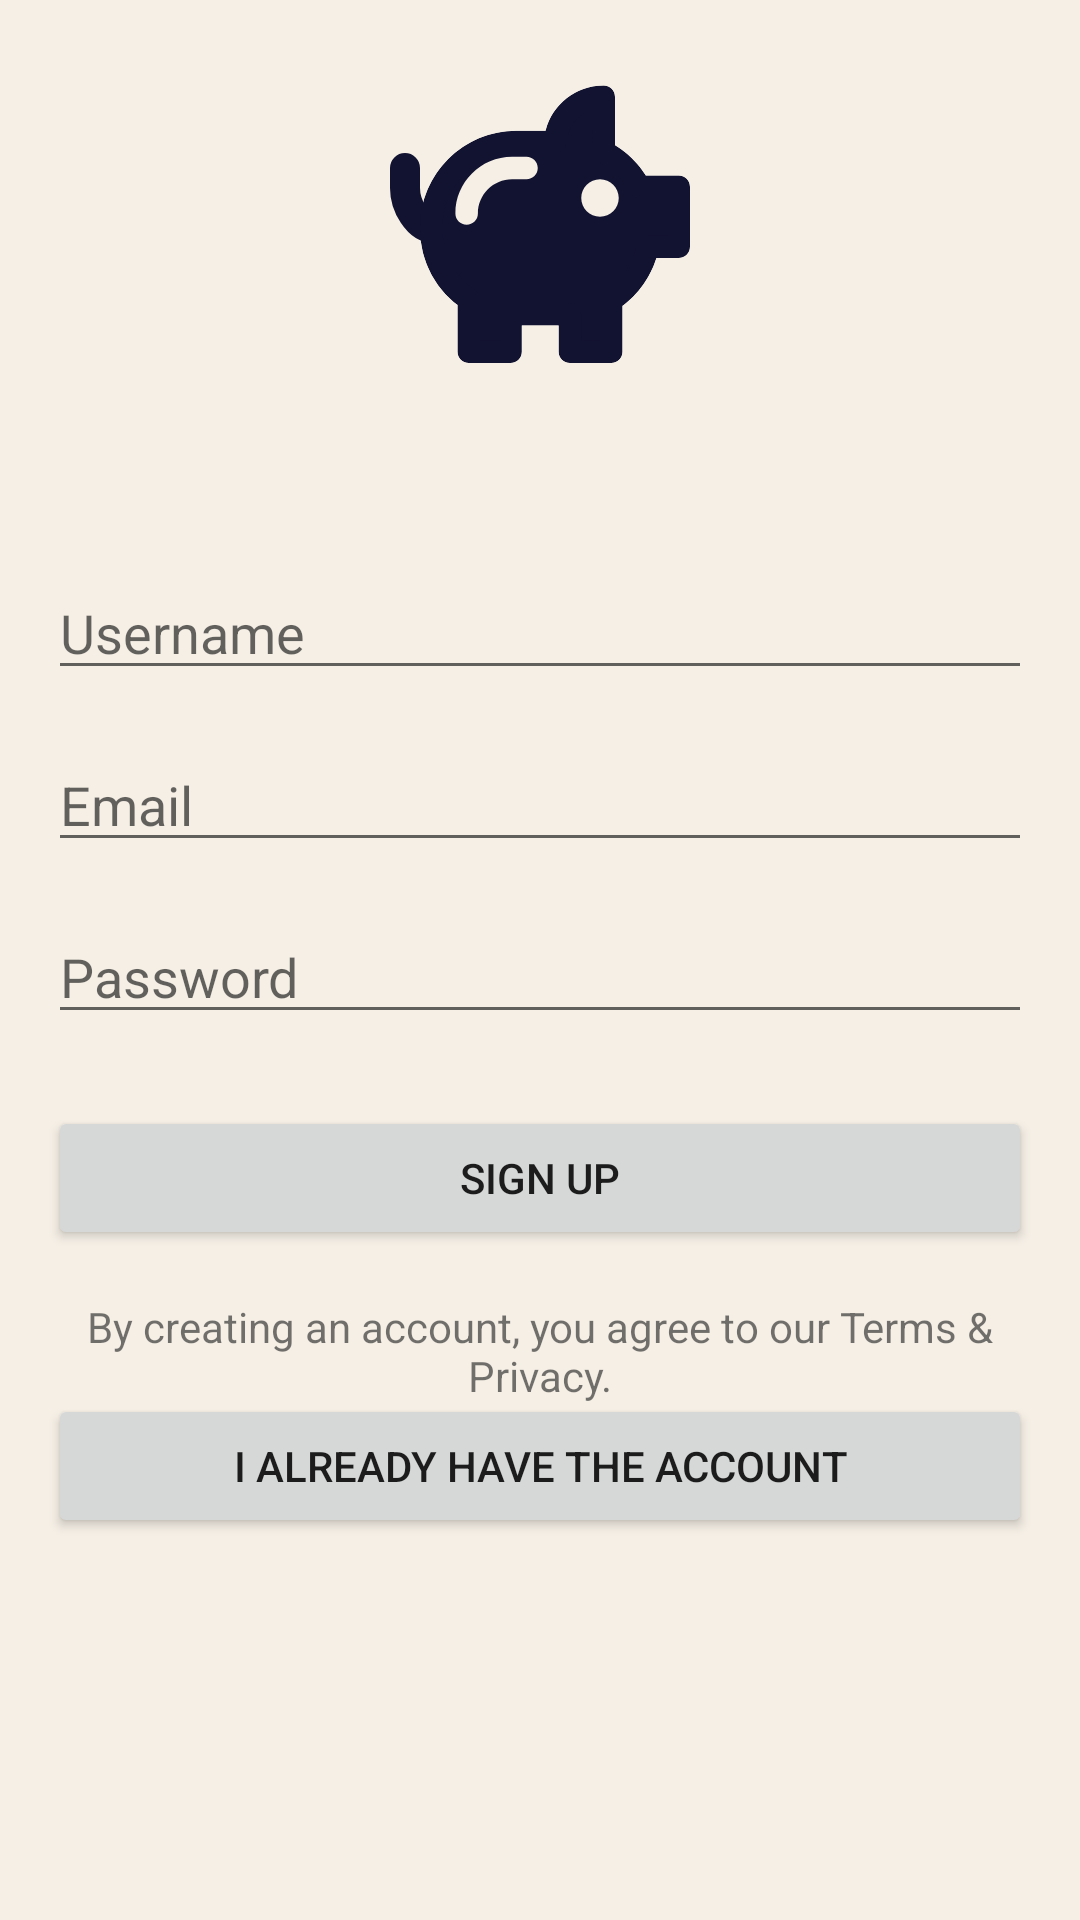

Named icons in this screenshot (1080 x 1920) and their centers, [x,y]:
budgets: [540,224]
